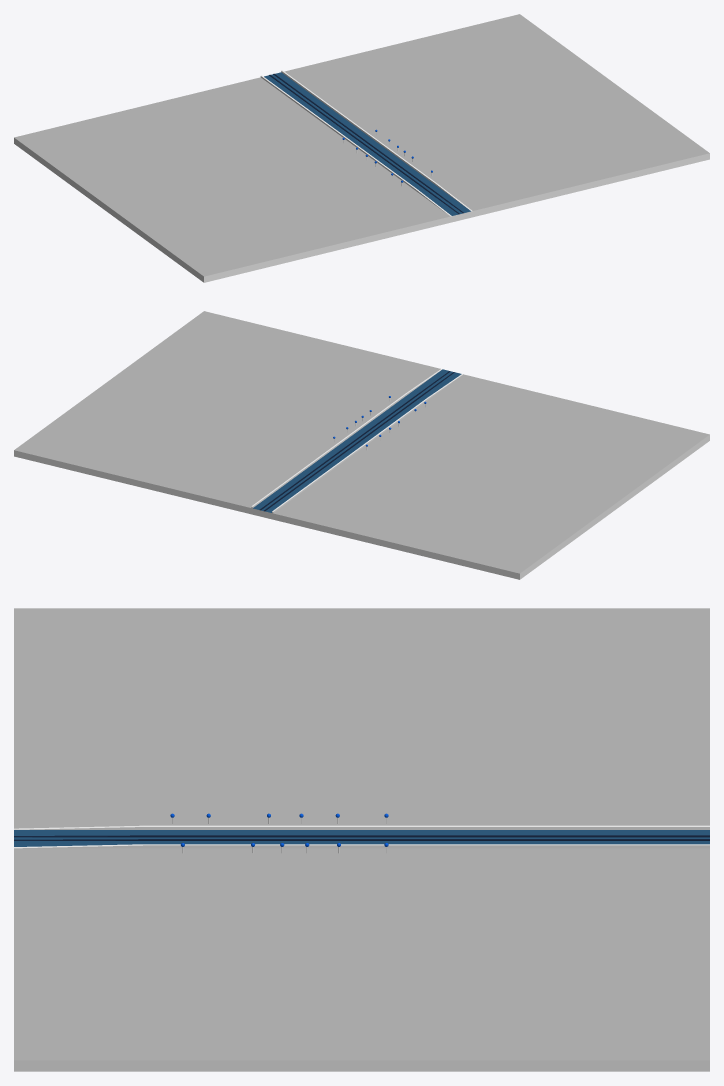
File: Main Menu.fbx
3 renders of one model, top to bottom at view 1: azimuth 30°, elevation 25°; view 2: azimuth 150°, elevation 25°; view 3: azimuth 270°, elevation 25°, orthographic. The views are drawn at different scales.
Parts seen in each view (by area): view 1: Cube; view 2: Cube; view 3: Cube.
Part boxes in pixels (left/top/right/bottom): Cube: left=14, top=14, right=709, bottom=282; Cube: left=14, top=311, right=709, bottom=579; Cube: left=14, top=608, right=709, bottom=1071.
Bounding box in the file's own units: 16900 × 376 × 11000.
